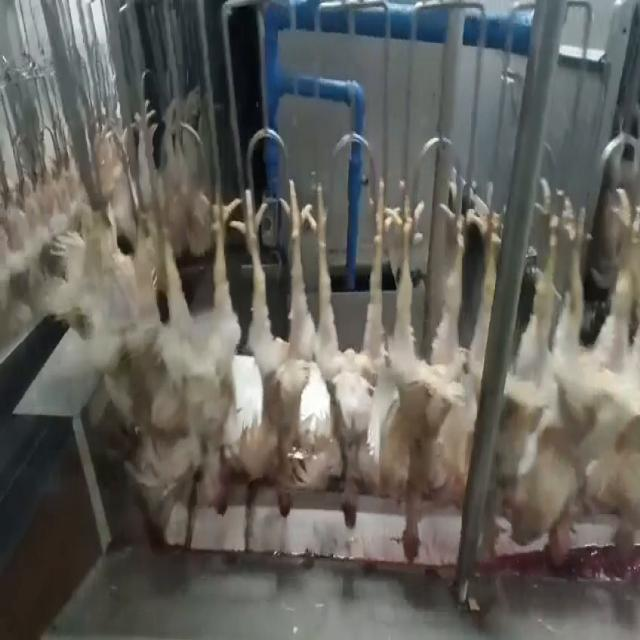chicken: (366, 185, 492, 569), (138, 181, 242, 517), (312, 170, 401, 528), (234, 175, 316, 524), (506, 187, 581, 568), (583, 183, 639, 564)
